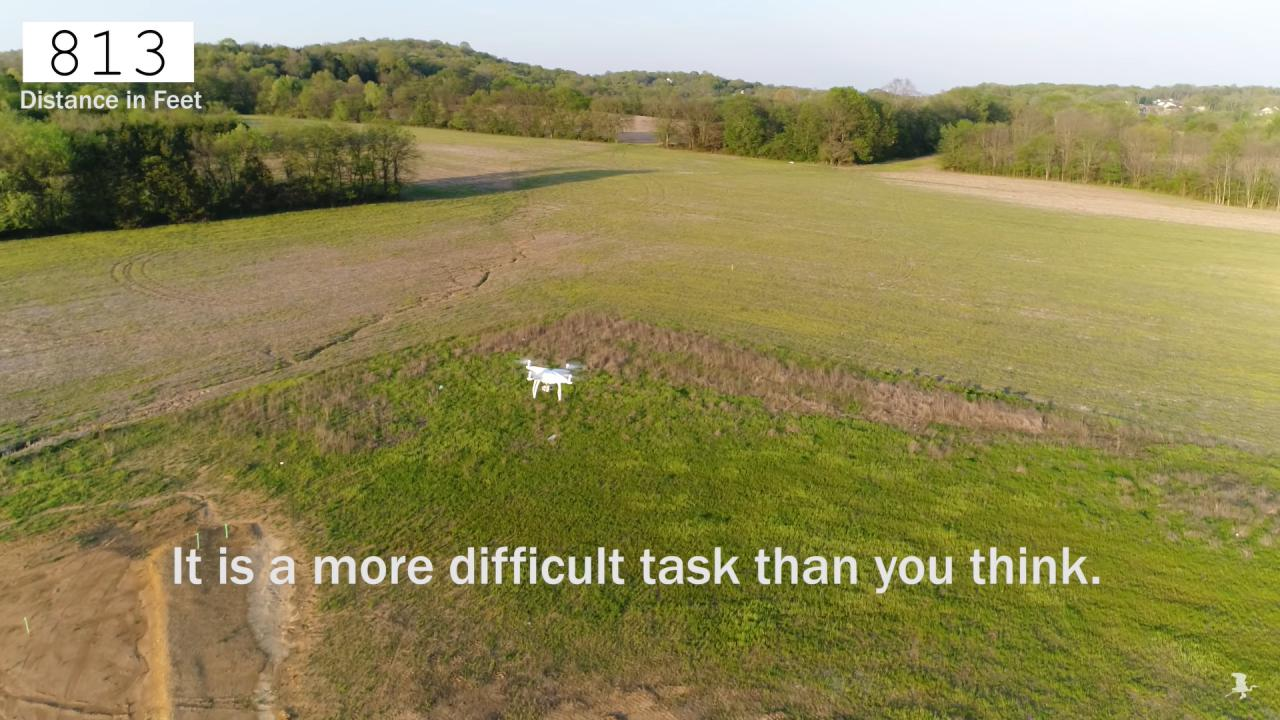Drone: (507, 347, 596, 413)
